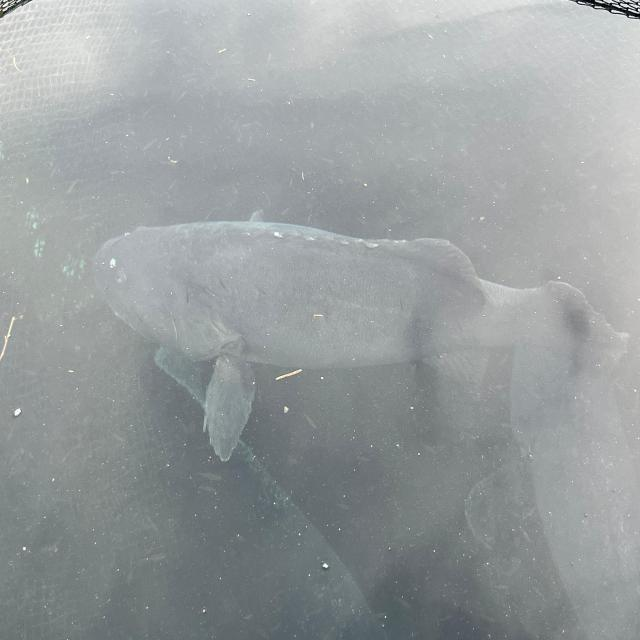ikan: (91, 217, 627, 465)
